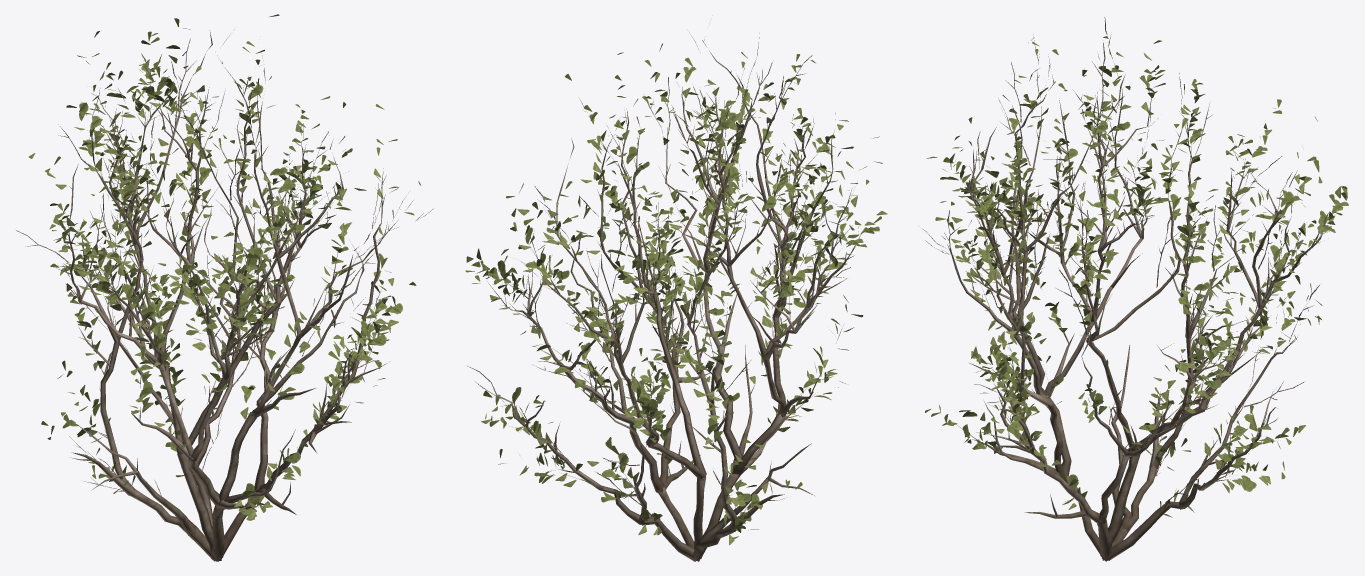
The model's file is ph-searsia-lucida-b.lod1.glb.
3 renders of one model, left to right at view 1: azimuth 30°, elevation 25°; view 2: azimuth 150°, elevation 25°; view 3: azimuth 270°, elevation 25°, orthographic. The views are drawn at different scales.
Visible parts, largest first — view 1: searsia_lucida_b_LOD0; view 2: searsia_lucida_b_LOD0; view 3: searsia_lucida_b_LOD0.
Boxes of the visible parts, x1=… form: searsia_lucida_b_LOD0: x1=16, y1=14, x2=433, y2=561; searsia_lucida_b_LOD0: x1=465, y1=32, x2=887, y2=561; searsia_lucida_b_LOD0: x1=923, y1=17, x2=1348, y2=561.
Size of the model in its own units: 1.44 by 1.93 by 1.46.
Materials: 2 (2 with a texture image).
